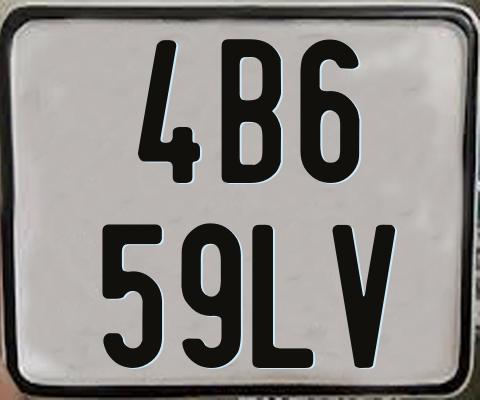4: (138, 37, 201, 184)
5: (102, 221, 168, 367)
6: (299, 38, 358, 184)
9: (179, 221, 243, 368)
B: (218, 39, 280, 187)
L: (249, 222, 315, 365)
V: (332, 223, 397, 372)
